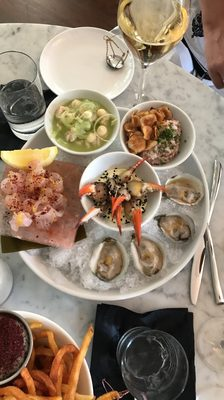pizza: (0, 51, 47, 139)
sushi: (0, 309, 86, 400), (38, 26, 135, 100), (119, 101, 197, 170), (44, 89, 120, 156), (0, 310, 34, 385), (0, 146, 59, 171)
